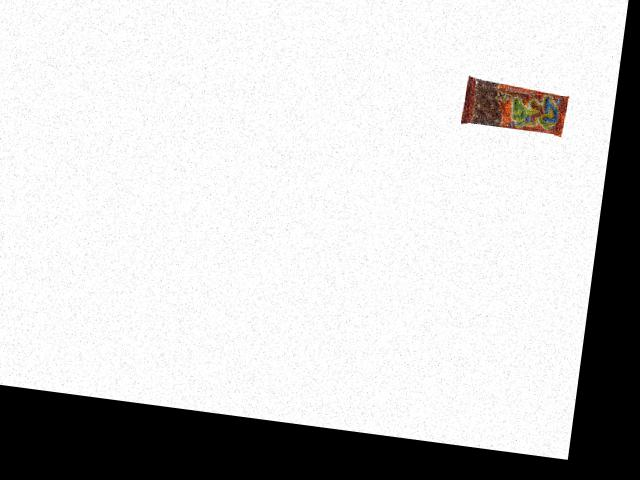chocolate: (460, 77, 569, 137)
